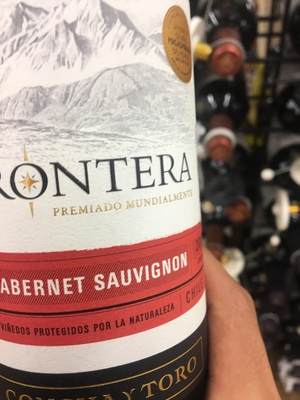frontera cabernet sauvignon: (1, 16, 200, 400)
